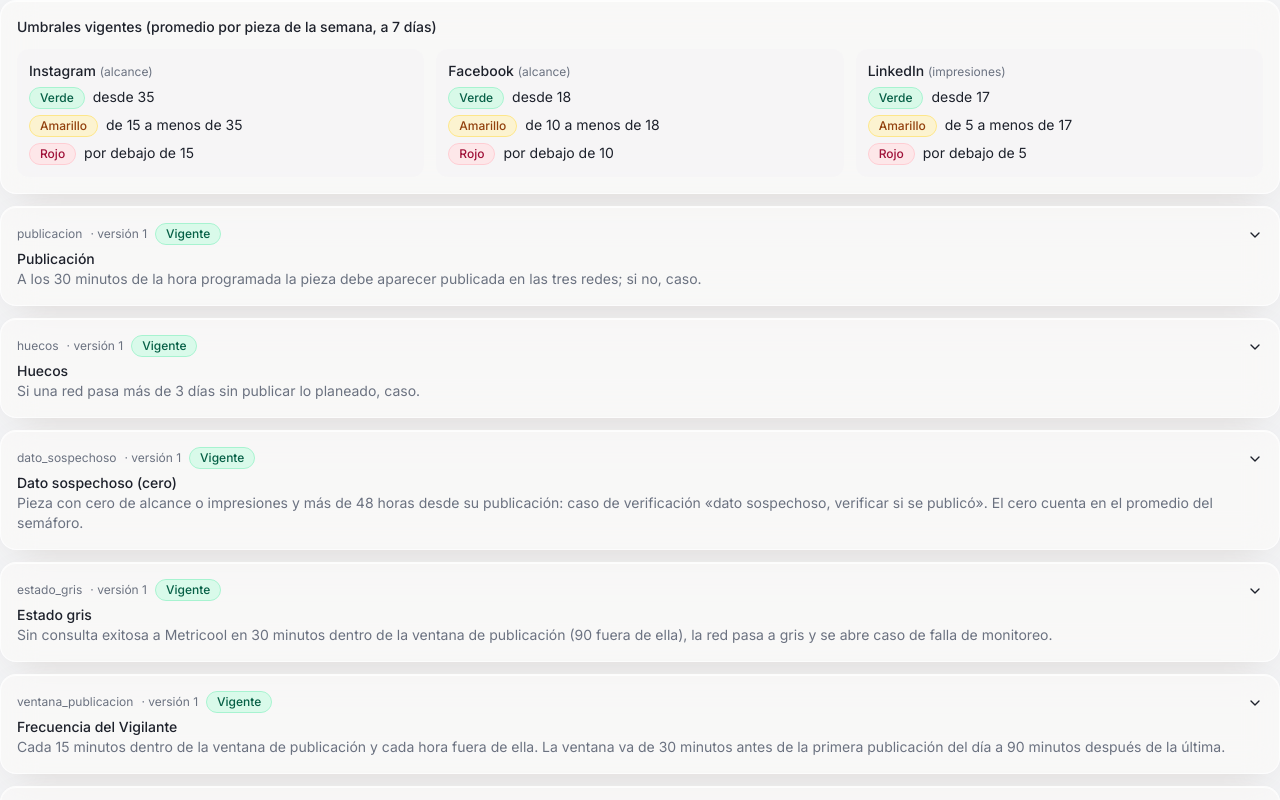
Test case: pestañas con umbrales e historial › Reglas muestra los tres umbrales, los valores y el historial con cambios
The image size is (1280, 800).
Check: the element with test id "umbral-semaforo_instagram" is shown, box [17,49,424,177]
Check: the element with test id "umbral-semaforo_linkedin" shows "desde 17", box [856,49,1263,177]
Click the text "Publicación" at [56, 258], box [17,250,95,267]
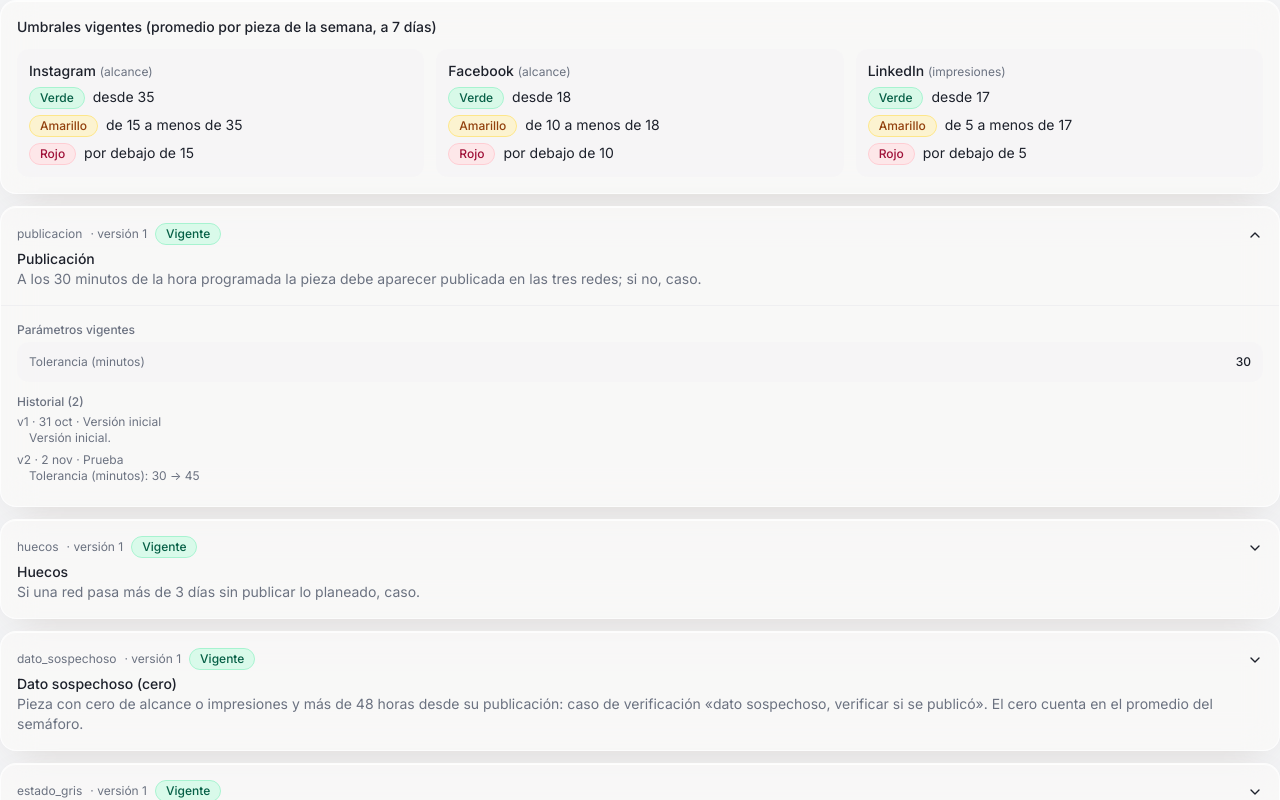
Check: the element with test id "parametros-publicacion" reads "Tolerancia (minutos) 30", box [17,342,1263,382]
Check: the number of elements with test id "historial-publicacion" is 2, box [17,414,161,445]; [17,452,200,483]
Check: the text "Tolerancia (minutos): 30 → 45" is shown, box [29,468,200,483]
